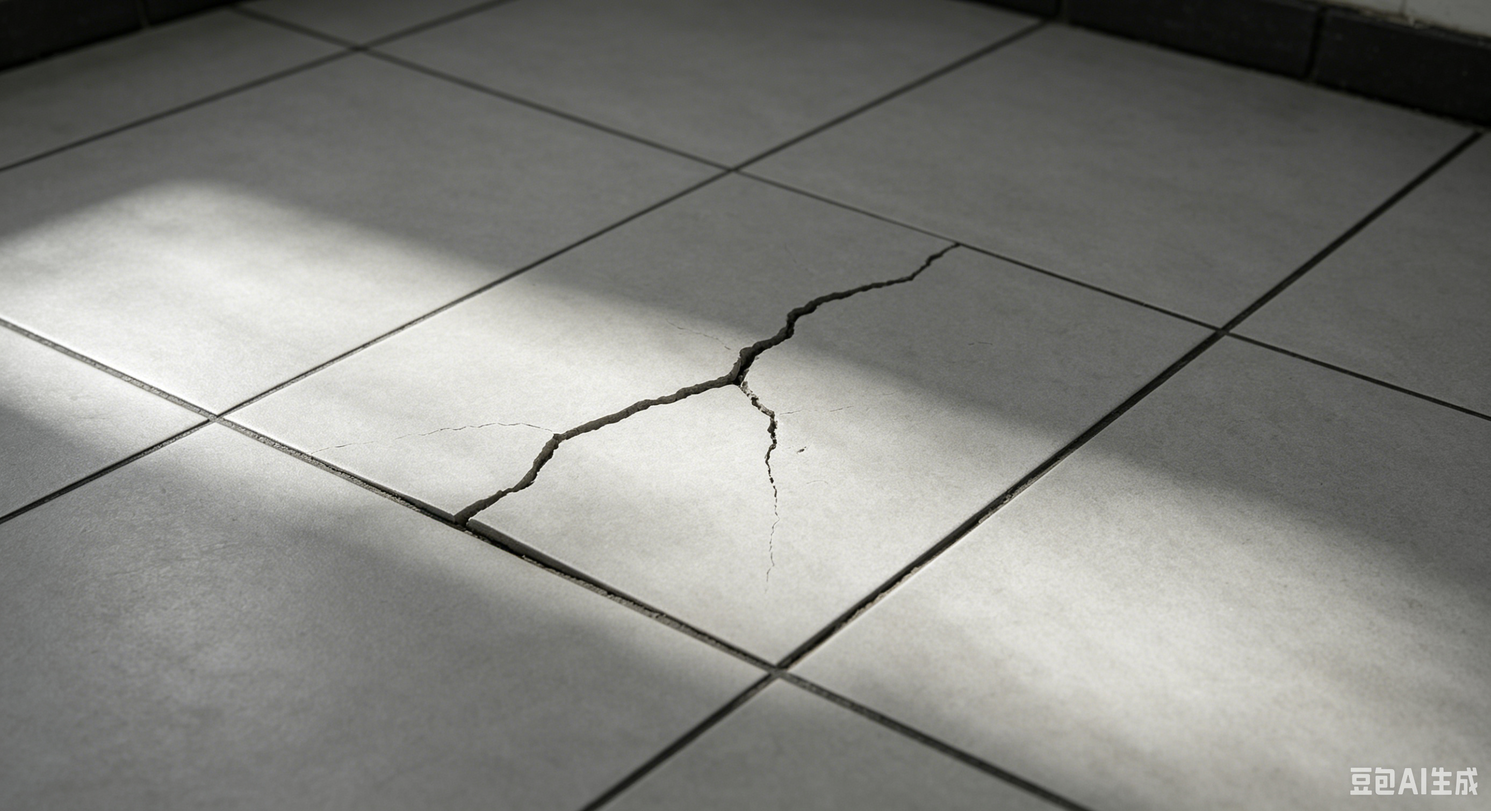floor_defect: (400, 416, 689, 549), (733, 367, 814, 583), (606, 326, 764, 433), (754, 278, 892, 372), (513, 548, 632, 605), (883, 223, 966, 292)
